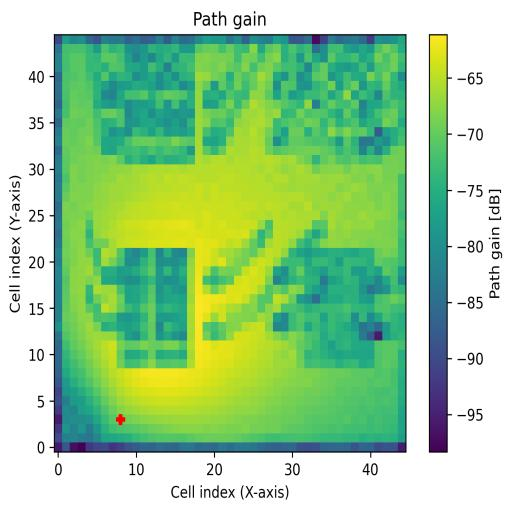Concrete: (298, 44, 382, 154)
Glass: (118, 45, 196, 164)
Metal: (297, 248, 374, 369)
Wood: (116, 248, 187, 368)
